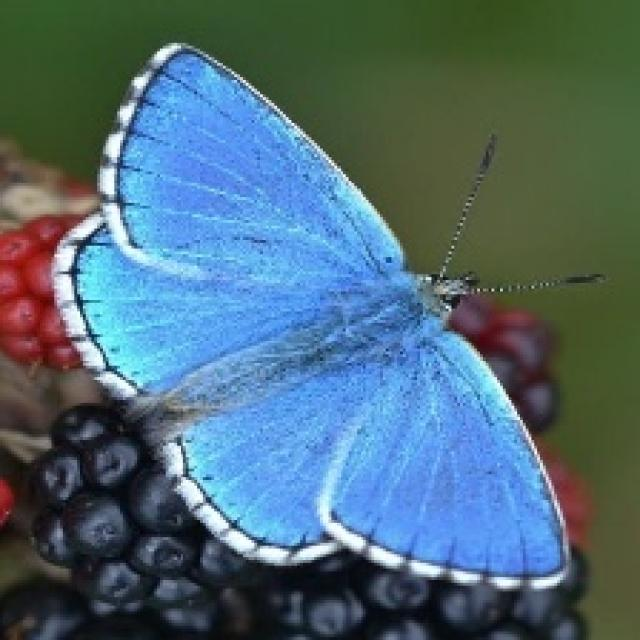butterfly: (49, 37, 606, 589)
